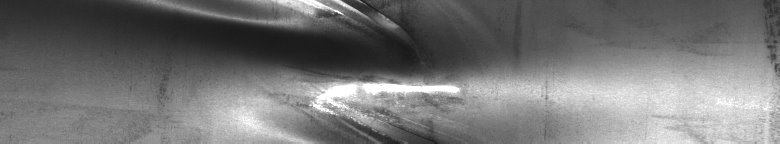ke: (142, 4, 463, 136)
